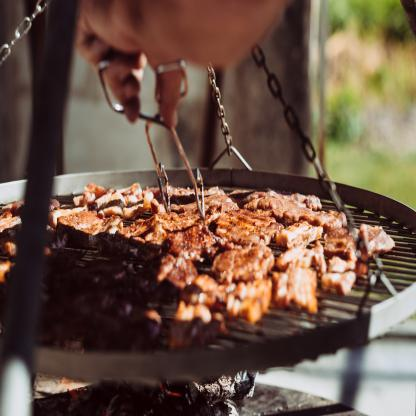Carne: (250, 188, 343, 238), (221, 200, 280, 266), (120, 201, 202, 246), (164, 221, 221, 282), (53, 198, 118, 244), (272, 262, 314, 309)
